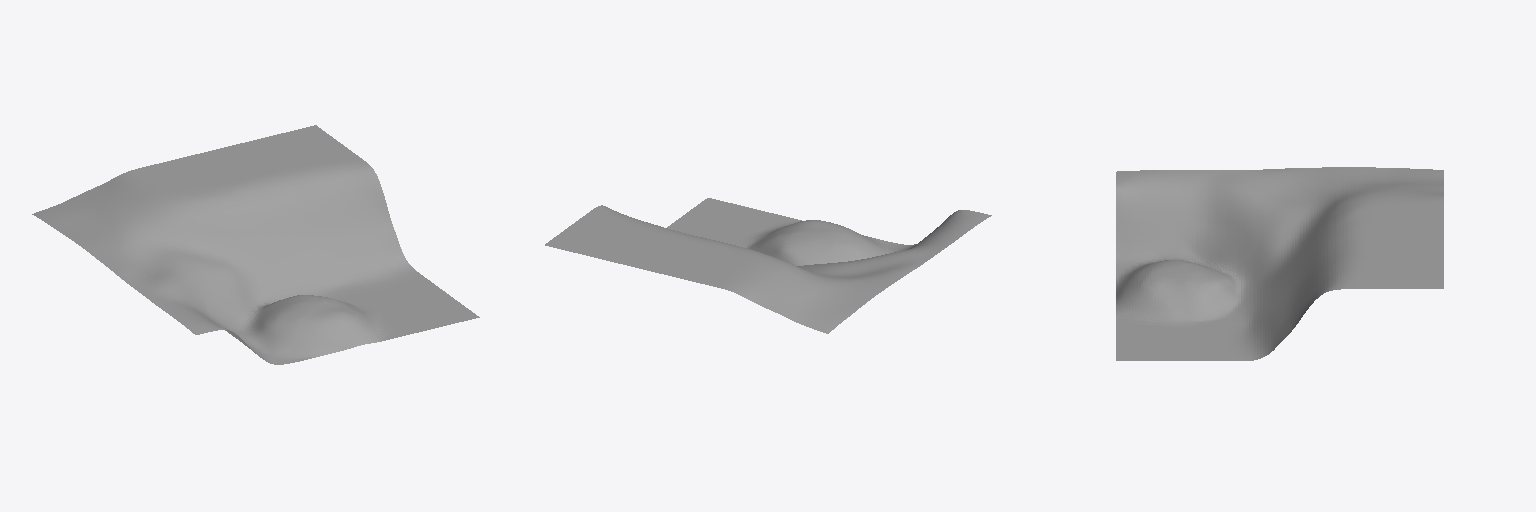
Rendered from small_world.obj.
3 renders of one model, left to right at view 1: azimuth 30°, elevation 25°; view 2: azimuth 150°, elevation 25°; view 3: azimuth 270°, elevation 25°, orthographic.
Visible parts, largest first — view 1: WORLD_Plane.001; view 2: WORLD_Plane.001; view 3: WORLD_Plane.001.
Boxes of the visible parts, box(x1,y1,x2,y2) form: WORLD_Plane.001: box(32, 125, 479, 364); WORLD_Plane.001: box(545, 198, 991, 333); WORLD_Plane.001: box(1116, 167, 1443, 360).
Size of the model in its own units: 75.87 by 18.45 by 75.94.